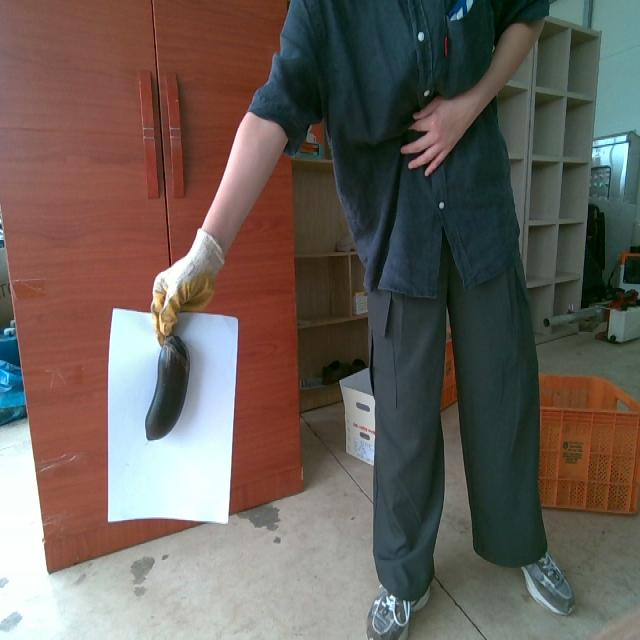Egg plant: (145, 336, 189, 439)
